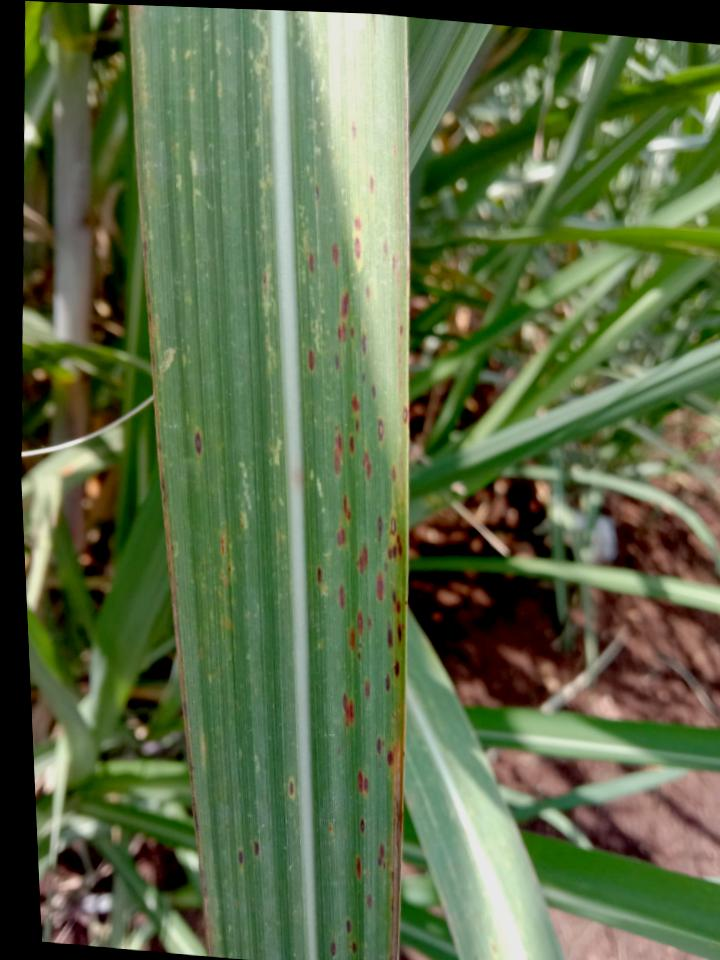Rust: (333, 291, 352, 343), (331, 423, 343, 477), (339, 690, 355, 730), (384, 531, 403, 561), (355, 544, 371, 577), (360, 450, 373, 484), (191, 426, 203, 460), (390, 588, 403, 618), (216, 529, 228, 560), (374, 571, 385, 603), (357, 769, 370, 795), (342, 492, 352, 523), (385, 618, 394, 652), (334, 526, 347, 548), (329, 240, 339, 268), (376, 842, 386, 870), (376, 513, 385, 544), (374, 736, 386, 758), (351, 236, 362, 259), (349, 393, 360, 416), (337, 583, 346, 611), (308, 346, 317, 373), (396, 618, 405, 644), (354, 853, 362, 882), (376, 419, 385, 444), (306, 253, 315, 277), (356, 609, 364, 636), (331, 352, 341, 373), (349, 120, 357, 146), (359, 333, 367, 359), (348, 626, 356, 652), (314, 565, 324, 585), (383, 672, 392, 693), (387, 516, 396, 536), (347, 939, 358, 955), (381, 238, 390, 257), (352, 216, 362, 233), (364, 678, 371, 702), (252, 839, 261, 857), (367, 173, 374, 196), (354, 417, 362, 436), (401, 405, 408, 426), (312, 183, 320, 201), (365, 892, 373, 910), (390, 465, 397, 485), (349, 433, 355, 456), (370, 383, 378, 400), (385, 750, 393, 766), (393, 659, 400, 677), (236, 849, 243, 867), (288, 778, 294, 798), (359, 817, 365, 836), (330, 940, 336, 959), (382, 559, 390, 573), (364, 283, 370, 301), (367, 614, 373, 632), (346, 917, 352, 935), (349, 324, 356, 339), (261, 270, 267, 284), (359, 373, 366, 385), (398, 324, 404, 336), (328, 822, 333, 834), (357, 652, 362, 663), (358, 642, 363, 649), (404, 599, 407, 606)
Yellow: (244, 9, 280, 384), (128, 5, 158, 248), (198, 518, 239, 645), (152, 313, 166, 414), (236, 460, 252, 534), (197, 724, 208, 773)
